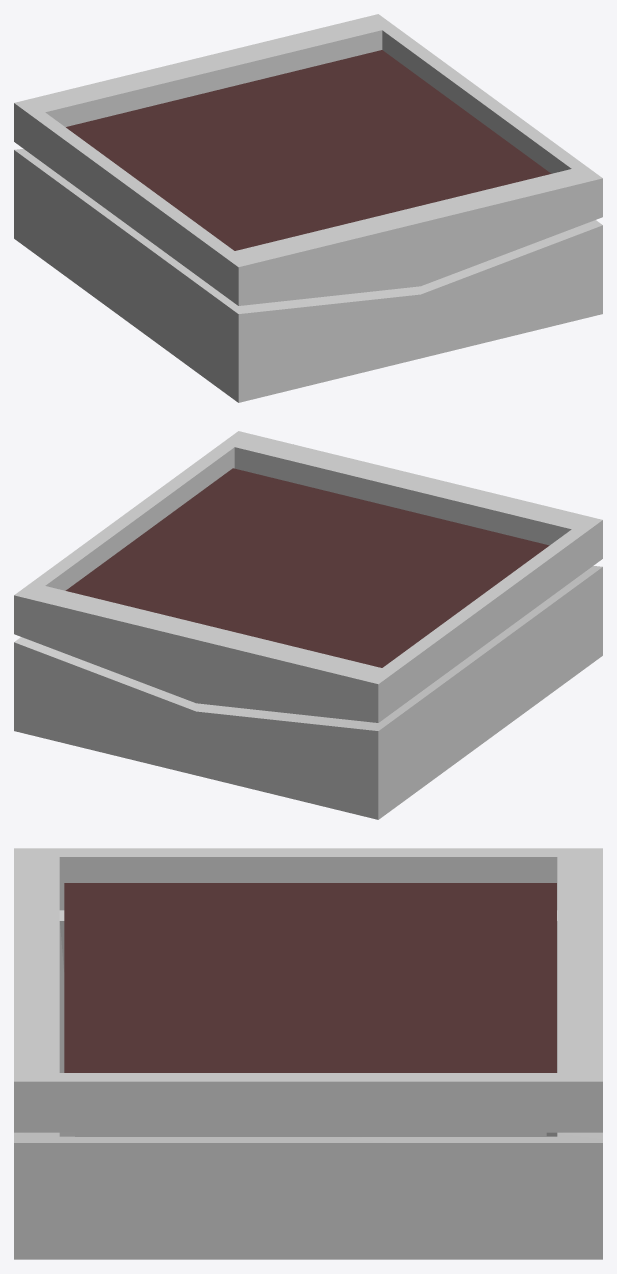
File: Big_plantpot_002.fbx
3 views of the same model, one above another, from view 1: azimuth 30°, elevation 25°; view 2: azimuth 150°, elevation 25°; view 3: azimuth 270°, elevation 25° (orthographic). The views are drawn at different scales.
Visible parts, largest first — view 1: pCube424; view 2: pCube424; view 3: pCube424.
Part boxes in pixels (x1=…): pCube424: x1=14, y1=14, x2=602, y2=402; pCube424: x1=14, y1=431, x2=602, y2=819; pCube424: x1=14, y1=848, x2=602, y2=1259.
Size of the model in its own units: 2.43 by 0.8635 by 2.59.
